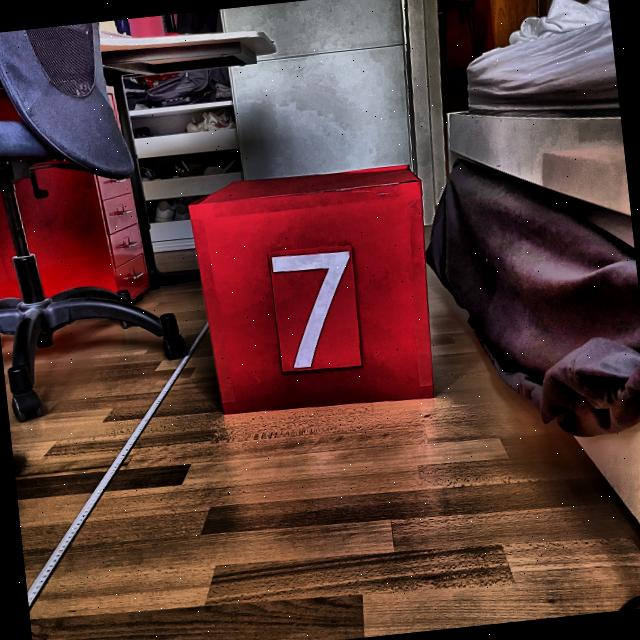red box: (190, 160, 438, 420)
seven: (268, 243, 364, 374)
